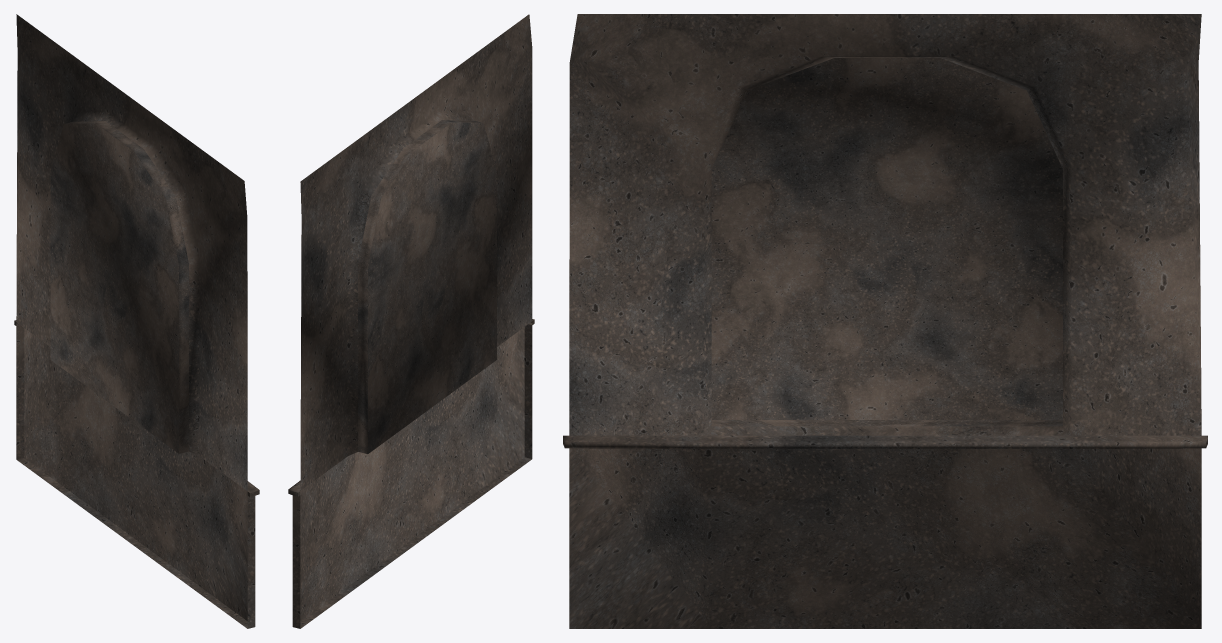
The model's file is Wall.fbx.
3 views of the same model, side by side, from view 1: azimuth 30°, elevation 25°; view 2: azimuth 150°, elevation 25°; view 3: azimuth 270°, elevation 25° (orthographic). The views are drawn at different scales.
Visible parts, largest first — view 1: Plane.002; view 2: Plane.002; view 3: Plane.002.
Part boxes in pixels (left/top/right/bottom): Plane.002: left=14, top=14, right=259, bottom=628; Plane.002: left=288, top=14, right=534, bottom=628; Plane.002: left=563, top=14, right=1207, bottom=628.
Bounding box in the file's own units: 77.44 × 1166 × 1118.
